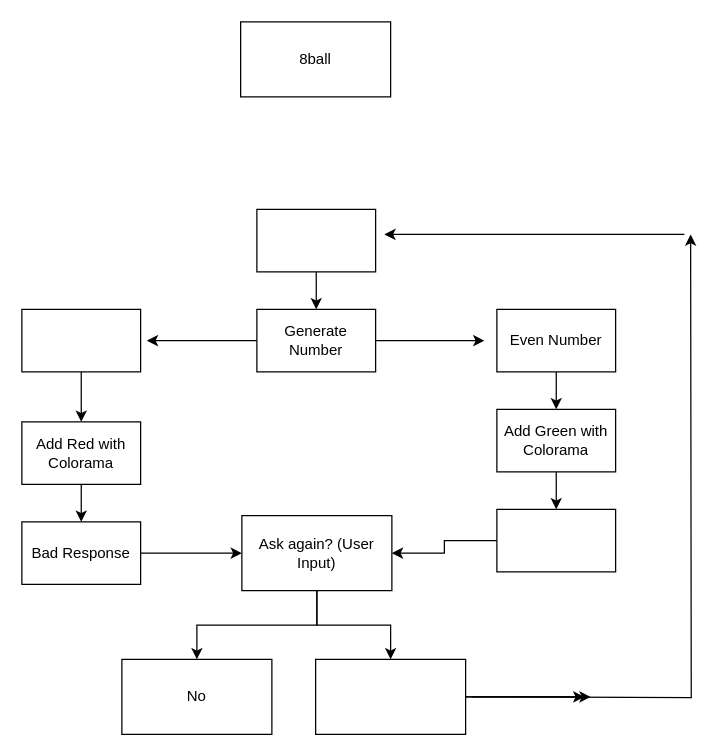
Image size: 724x756. Some labels were removed from this diagram. The centre of each missing label's shape, as x and y in pixels:
"Good Response" goes at point (556, 540).
"Odd Number" goes at point (81, 340).
"User Input" goes at point (316, 240).
"Yes" goes at point (390, 696).
